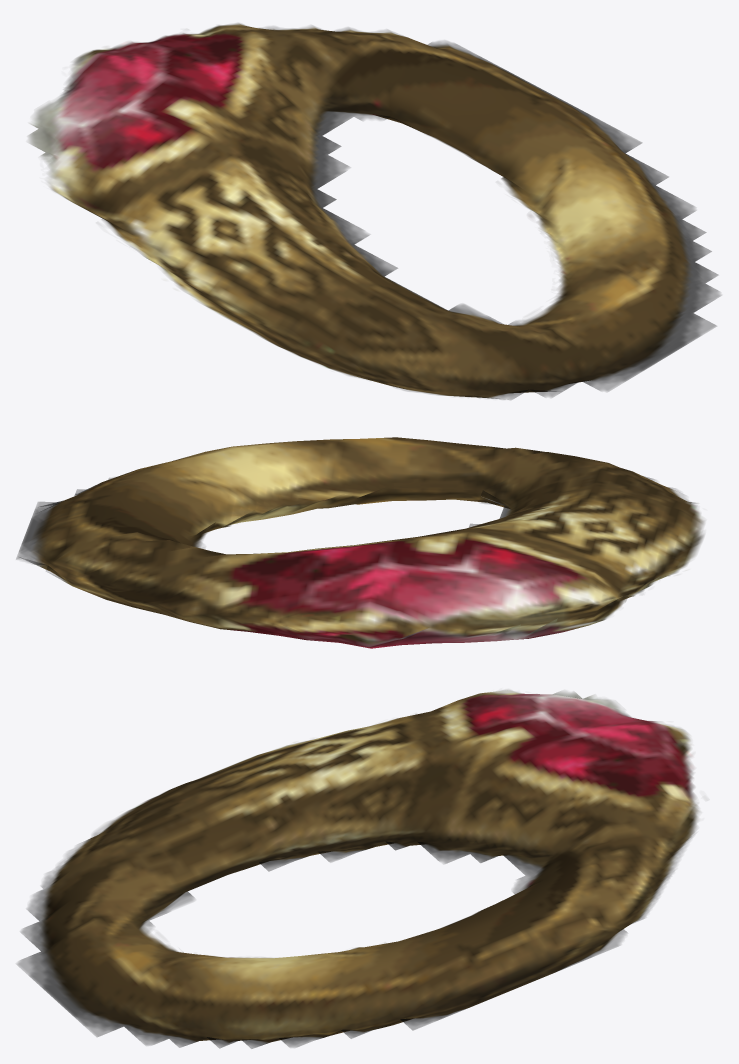
File: drop_ring.glb
3 renders of one model, top to bottom at view 1: azimuth 30°, elevation 25°; view 2: azimuth 150°, elevation 25°; view 3: azimuth 270°, elevation 25°, orthographic. The views are drawn at different scales.
Parts seen in each view (by area): view 1: drop_ring; view 2: drop_ring; view 3: drop_ring.
Part boxes in pixels (left/top/right/bottom): drop_ring: left=28, top=23, right=721, bottom=399; drop_ring: left=16, top=437, right=704, bottom=648; drop_ring: left=17, top=689, right=699, bottom=1048.
Bounding box in the file's own units: 0.5127 × 0.1387 × 0.5481.
1 material, 1 textured.
